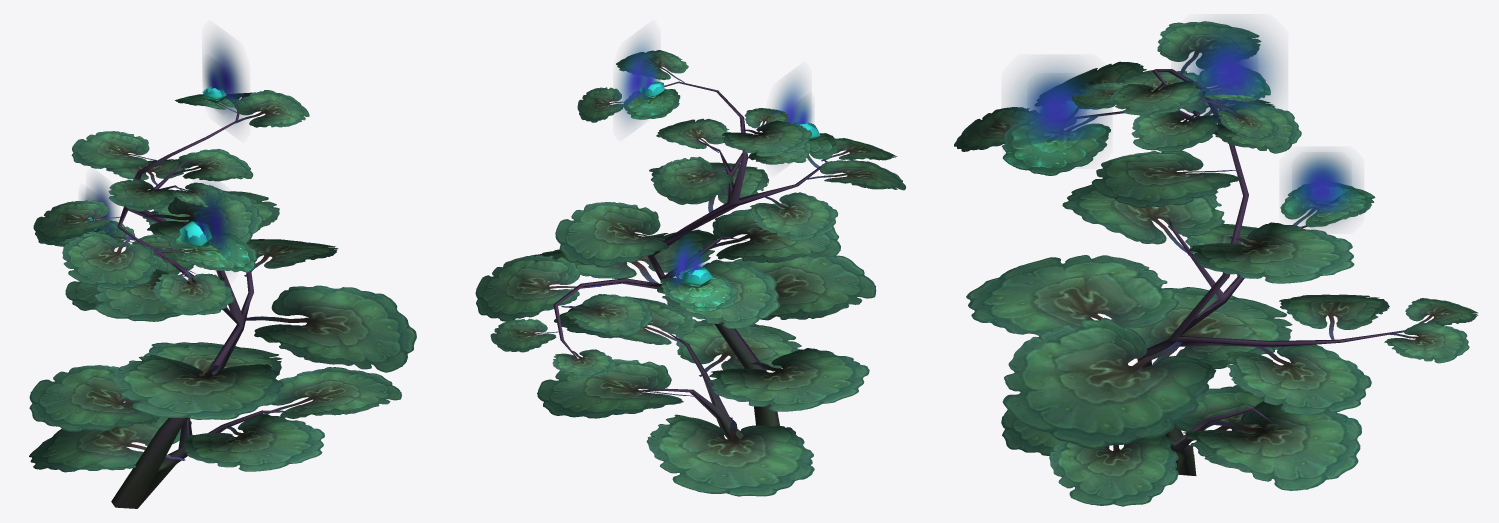
The picture shows the model from 3 angles, left to right: view 1: azimuth 30°, elevation 25°; view 2: azimuth 150°, elevation 25°; view 3: azimuth 270°, elevation 25°; orthographic projection. The views are drawn at different scales.
Size of the model in its own units: 2.95 by 3.32 by 3.09.
2 materials, 2 textured.
